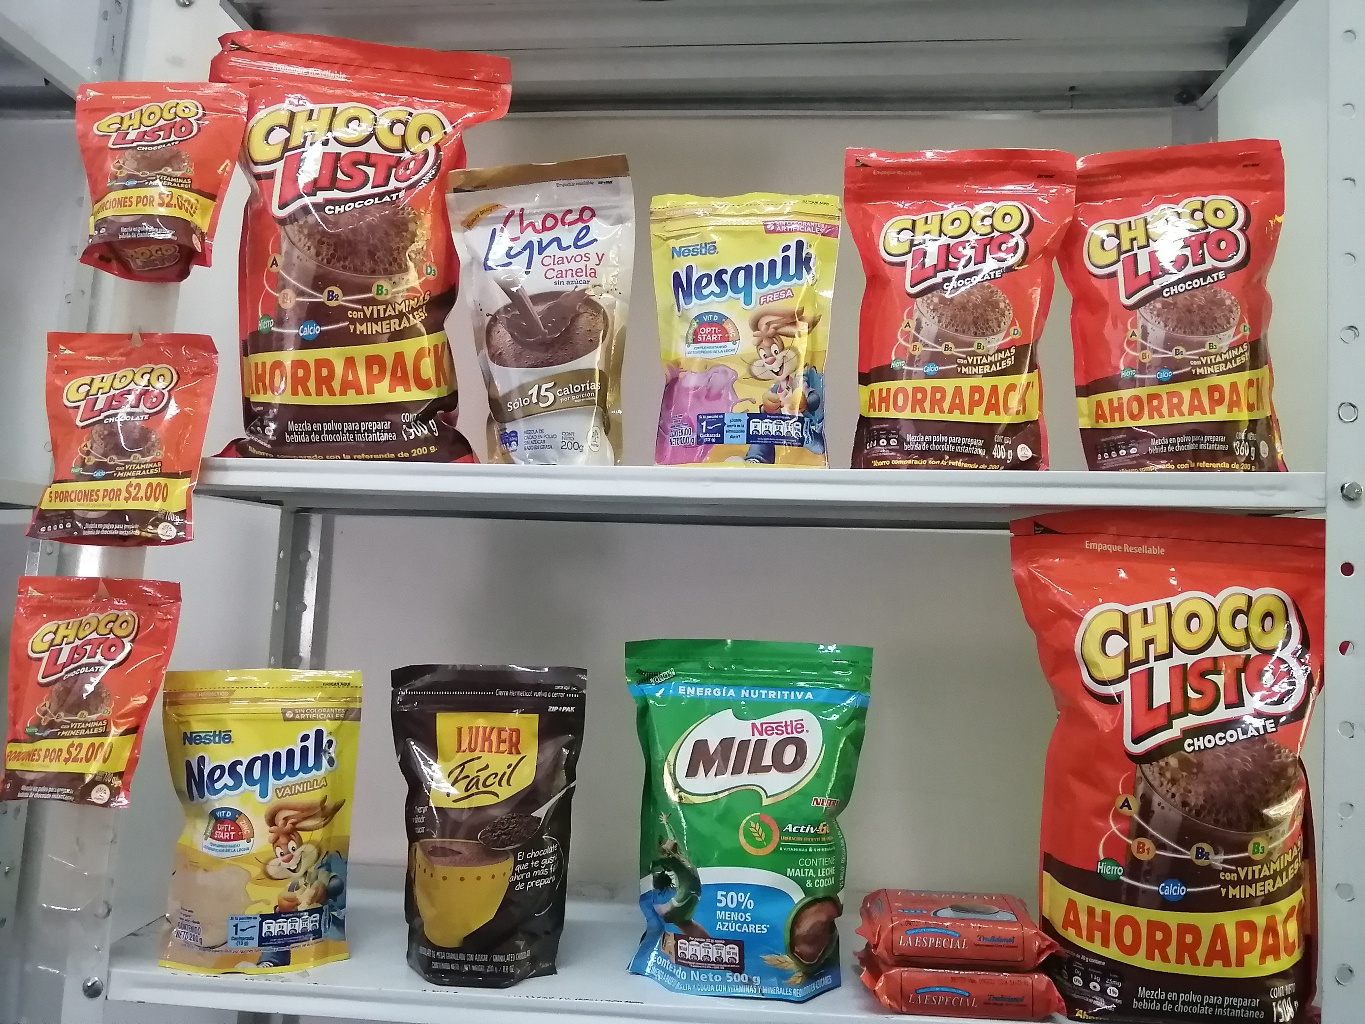COL0170103DYP1,500: (221, 22, 504, 461)
COL0170103DYP10000: (66, 57, 239, 281)
COL0170103DYP36000: (1060, 128, 1302, 477)
COL0170103DYP40000: (839, 136, 1055, 474)
COL0170205DYP50000: (605, 617, 892, 1006)
COL0170305DYP20000: (648, 172, 841, 472)
COL0170306DYP20000: (154, 646, 368, 985)
